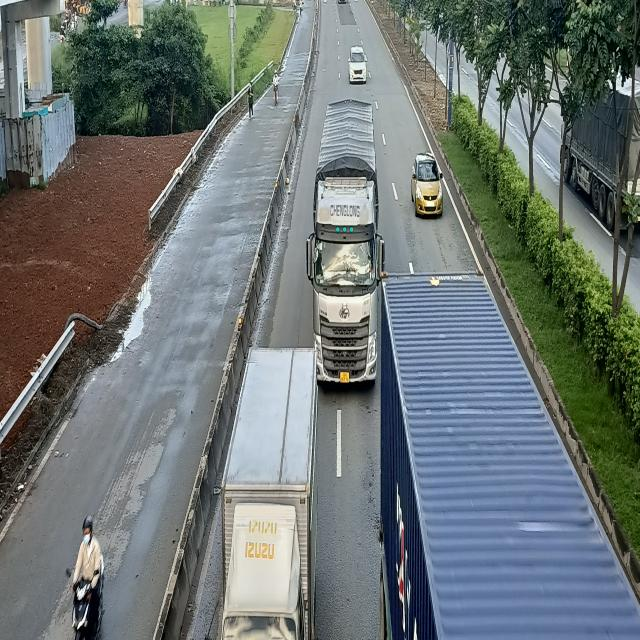car: (412, 153, 443, 216), (348, 46, 368, 84)
container: (370, 267, 632, 638)
truck: (193, 349, 321, 640), (304, 97, 381, 380)
